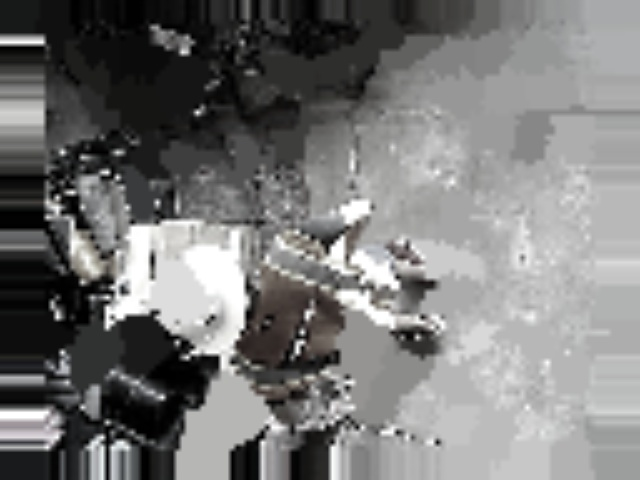one: (176, 287, 215, 325)
